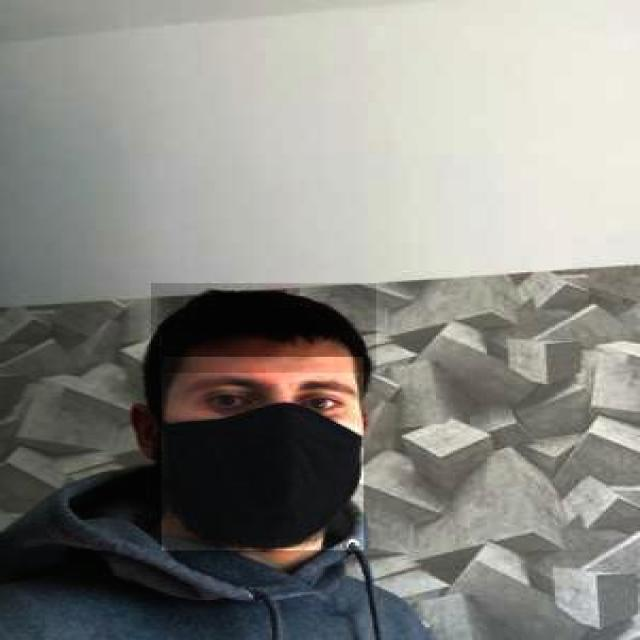face_mask: (160, 357, 363, 552)
head_nohelmet: (149, 283, 376, 373)
